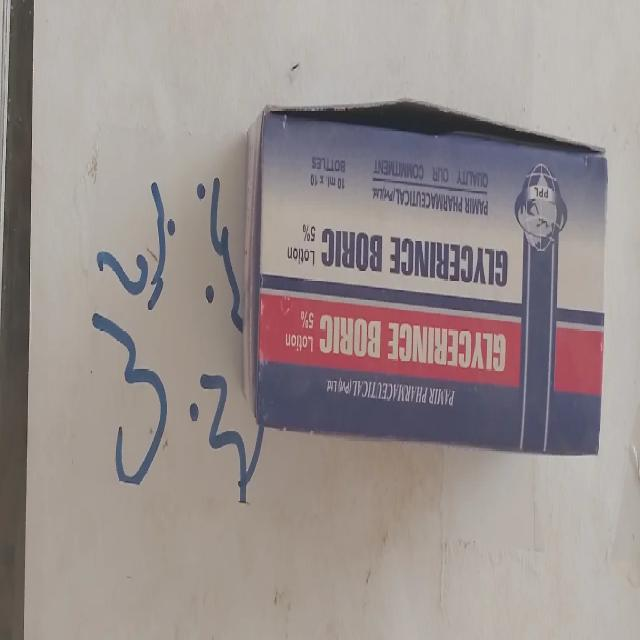drug-name: (318, 307, 509, 376)
